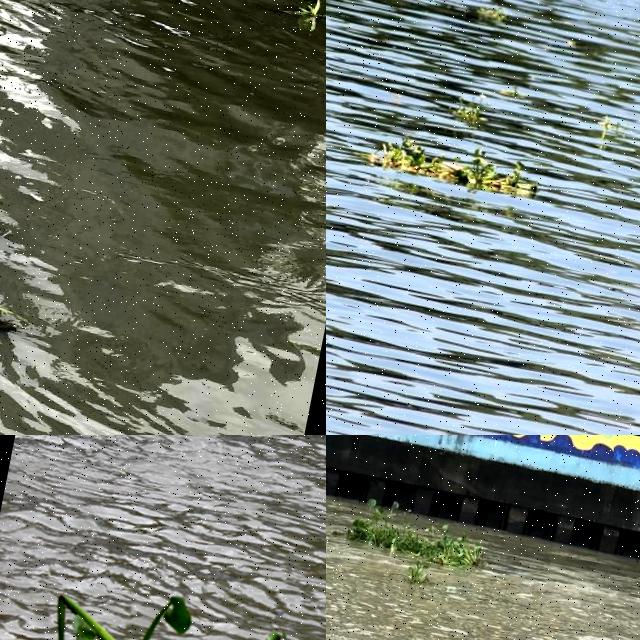water-hyacinth: (1, 554, 327, 640), (360, 131, 549, 204), (335, 493, 497, 576), (446, 91, 500, 135), (473, 1, 510, 27), (405, 559, 438, 588), (596, 115, 632, 137)
